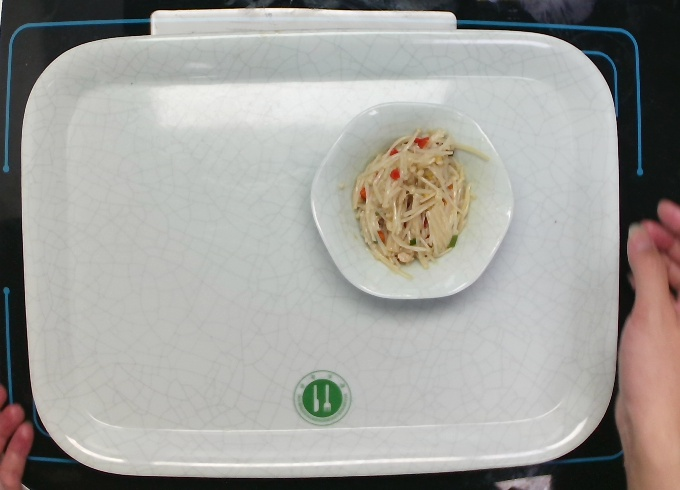WCQzf-Hua_Duo_Wan: (307, 92, 520, 311)
